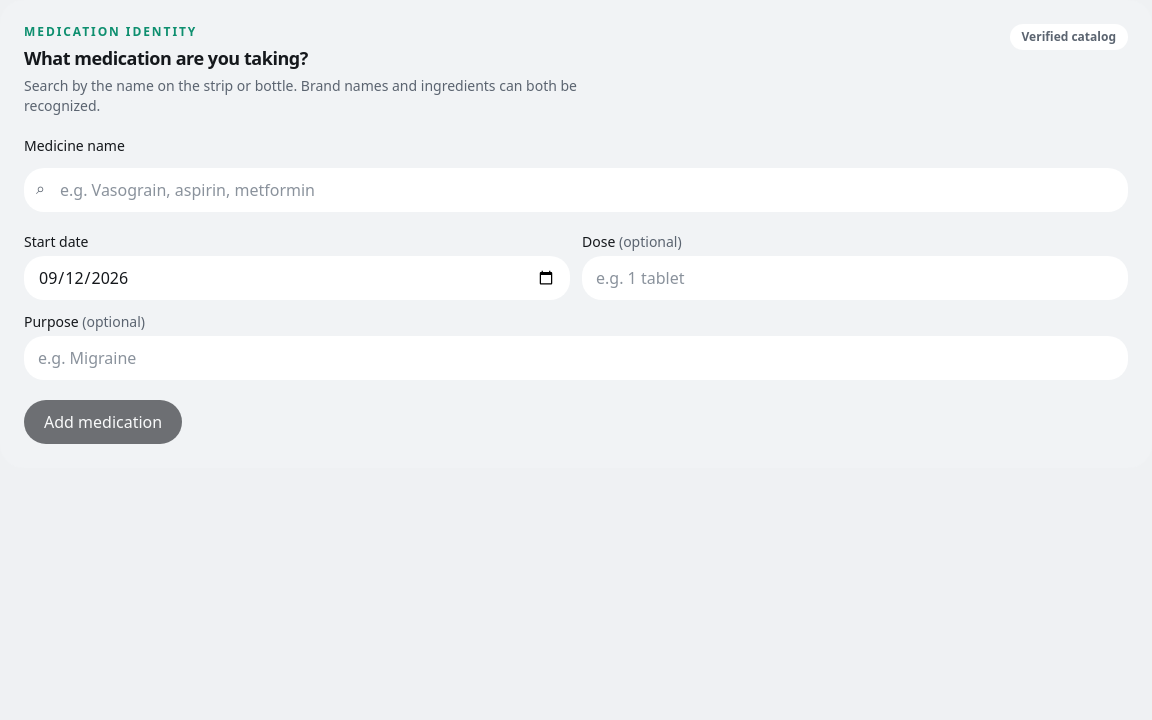
Scenario: MedicationPicker keyboard › keeps the verified selection when medication creation fails so the user can retry
Type "ex" into the dropdown labelled "Medicine name". click: [576, 190]
box: left=24, top=168, right=1128, bottom=212
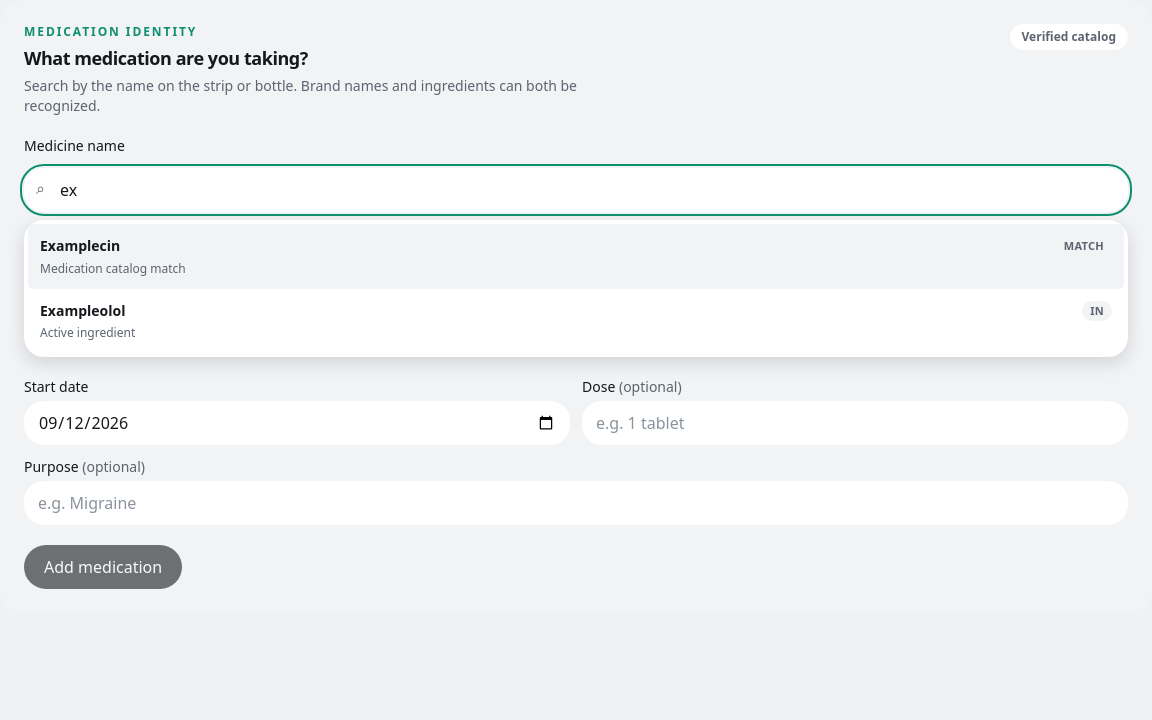
Click the option "Examplecin match Medication catalog match". click: [80, 246]
box: left=28, top=224, right=1124, bottom=288
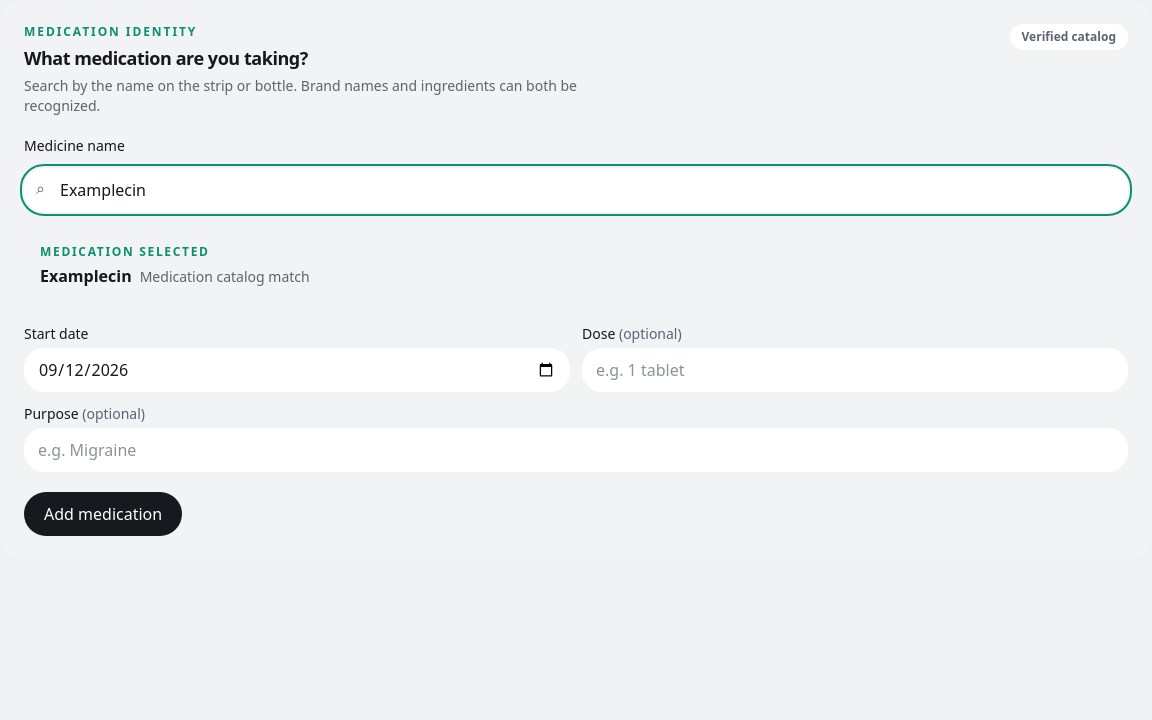
Result: the text "Medication selected" is shown at left=40, top=243, right=210, bottom=260
Click the button "Add medication". click: [103, 514]
box: left=24, top=492, right=182, bottom=536
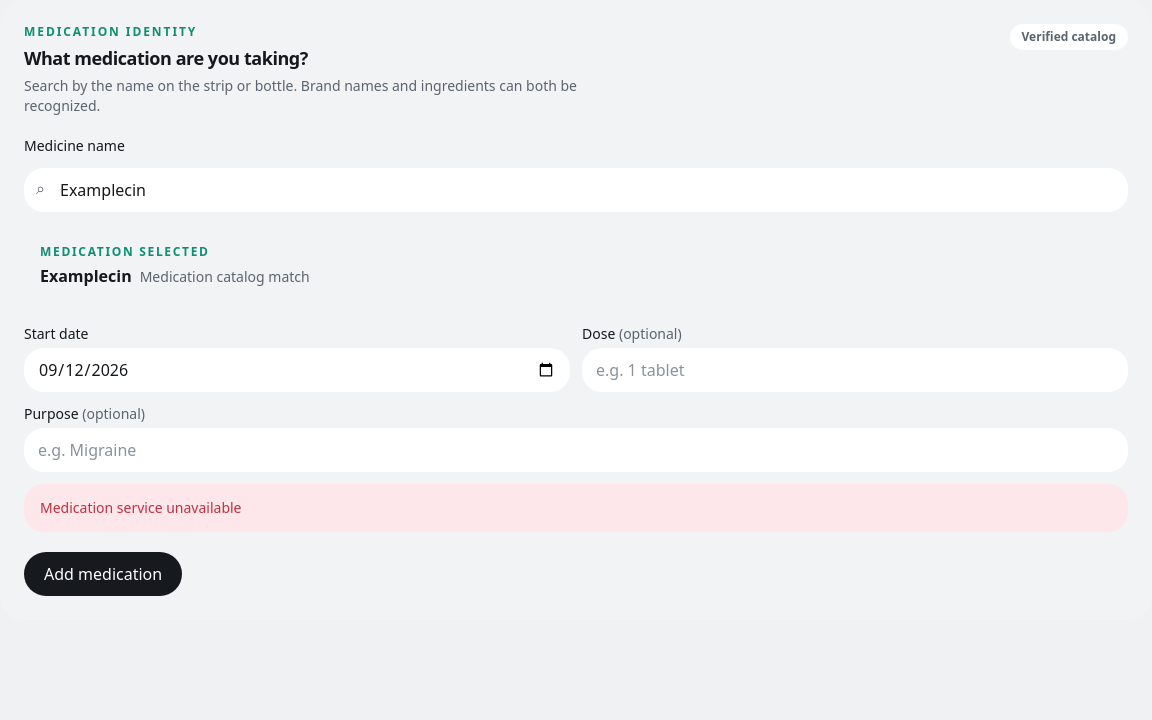
Result: the text "Medication selected" is shown at left=40, top=243, right=210, bottom=260
Result: the text "Examplecin" is shown at left=40, top=264, right=132, bottom=288
Result: the text "Medication service unavailable" is shown at left=24, top=484, right=1128, bottom=532
